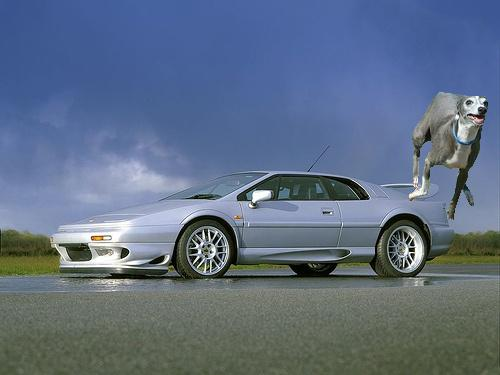tampered: (410, 93, 488, 220)
